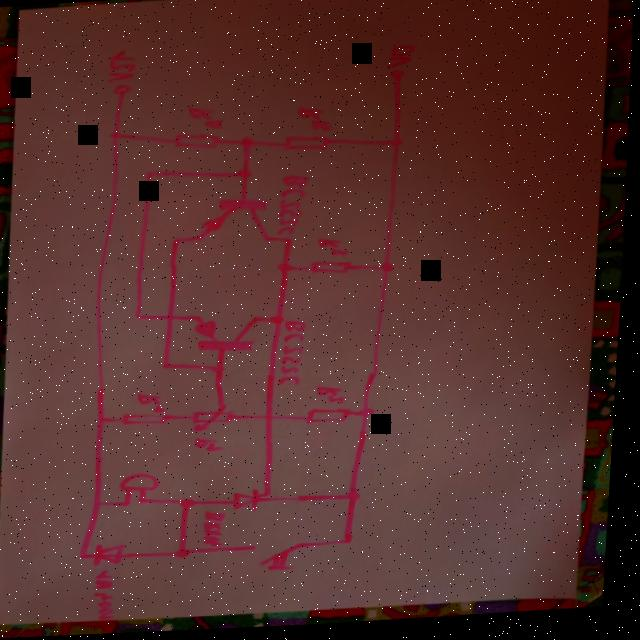crossover: (166, 312, 181, 324), (265, 413, 280, 424)
diode: (97, 541, 132, 566)
junction: (178, 547, 199, 560), (213, 362, 231, 375), (278, 262, 297, 274), (239, 137, 258, 149), (350, 491, 367, 504), (184, 498, 202, 510), (237, 168, 255, 180), (271, 314, 287, 327), (383, 263, 399, 276), (82, 549, 98, 562), (361, 410, 380, 420), (95, 498, 110, 509), (283, 236, 297, 247), (391, 140, 406, 150), (110, 130, 125, 140), (345, 538, 361, 547), (134, 310, 147, 321), (100, 414, 112, 424), (173, 236, 185, 246), (163, 361, 175, 371), (141, 496, 154, 505), (145, 170, 157, 179), (125, 499, 137, 507)
resistor: (194, 405, 238, 433), (309, 407, 355, 428), (283, 135, 332, 154), (122, 410, 176, 427), (174, 132, 221, 151), (310, 260, 355, 278)
switch: (257, 543, 309, 574)
terminal: (112, 82, 133, 96), (388, 71, 407, 81)
text: (279, 320, 312, 387), (278, 174, 312, 236), (98, 568, 125, 621), (186, 104, 225, 132), (296, 106, 334, 134), (106, 49, 136, 82), (207, 510, 232, 549), (317, 237, 352, 259), (140, 390, 172, 414), (385, 46, 414, 70), (318, 386, 349, 408), (199, 436, 229, 454)
thyristor: (237, 488, 278, 513)
transistor: (196, 197, 275, 248), (196, 312, 261, 356)
